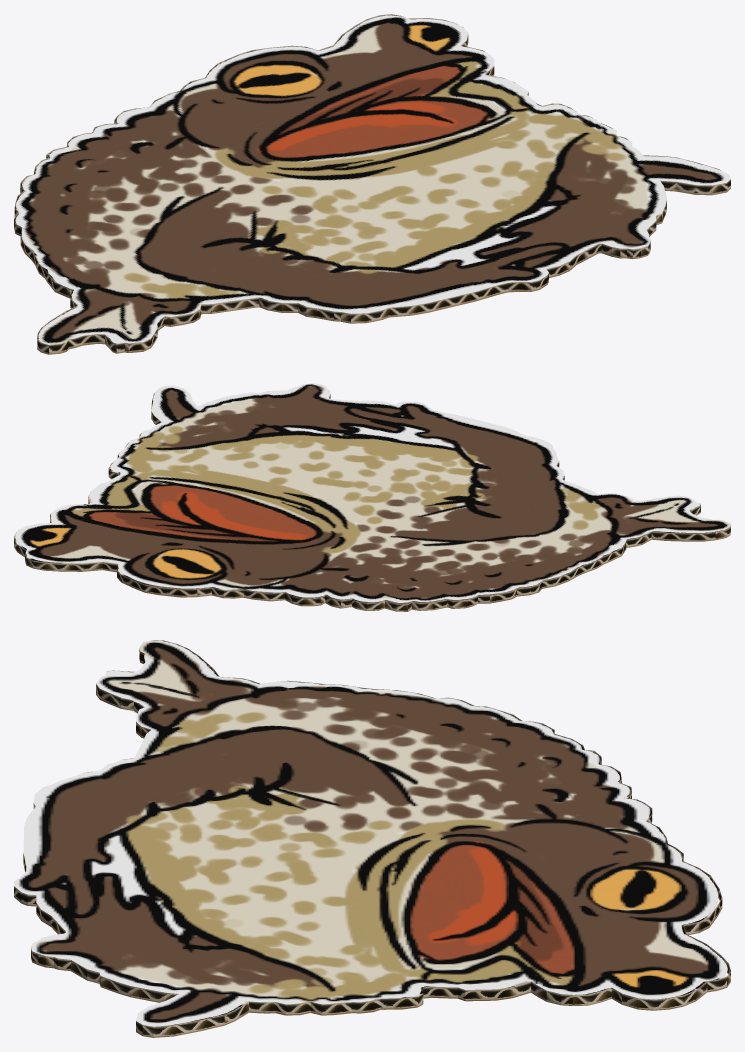
Rendered from frogSound.fbx.
The picture shows the model from 3 angles, top to bottom: view 1: azimuth 30°, elevation 25°; view 2: azimuth 150°, elevation 25°; view 3: azimuth 270°, elevation 25°; orthographic projection. The views are drawn at different scales.
Visible parts, largest first — view 1: Plane; view 2: Plane; view 3: Plane.
Boxes of the visible parts, x1,y1,x2,y2 form: Plane: (14,14,730,354); Plane: (14,383,730,611); Plane: (14,640,730,1037).
Bounding box in the file's own units: 3.67 × 0.05 × 2.88.
